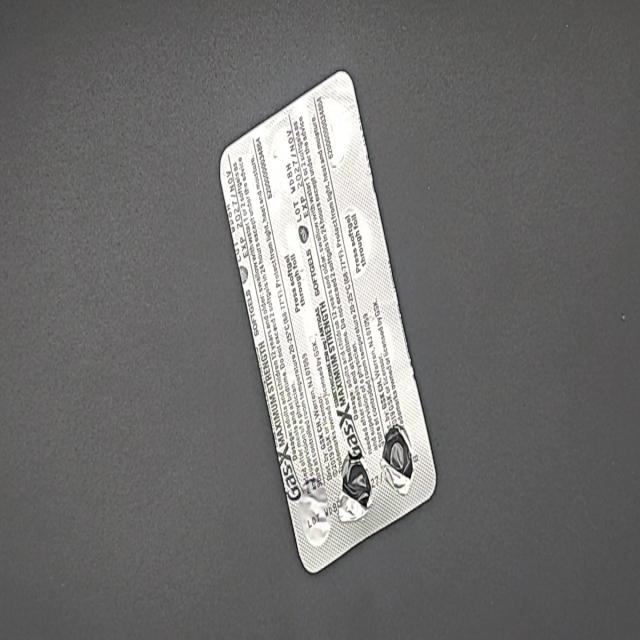defect: (378, 424, 417, 500), (336, 453, 374, 525)
